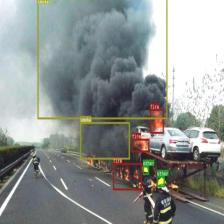fire: (112, 162, 142, 190), (150, 109, 163, 133), (132, 138, 150, 152)
smoke: (37, 0, 167, 119), (80, 122, 130, 159)
